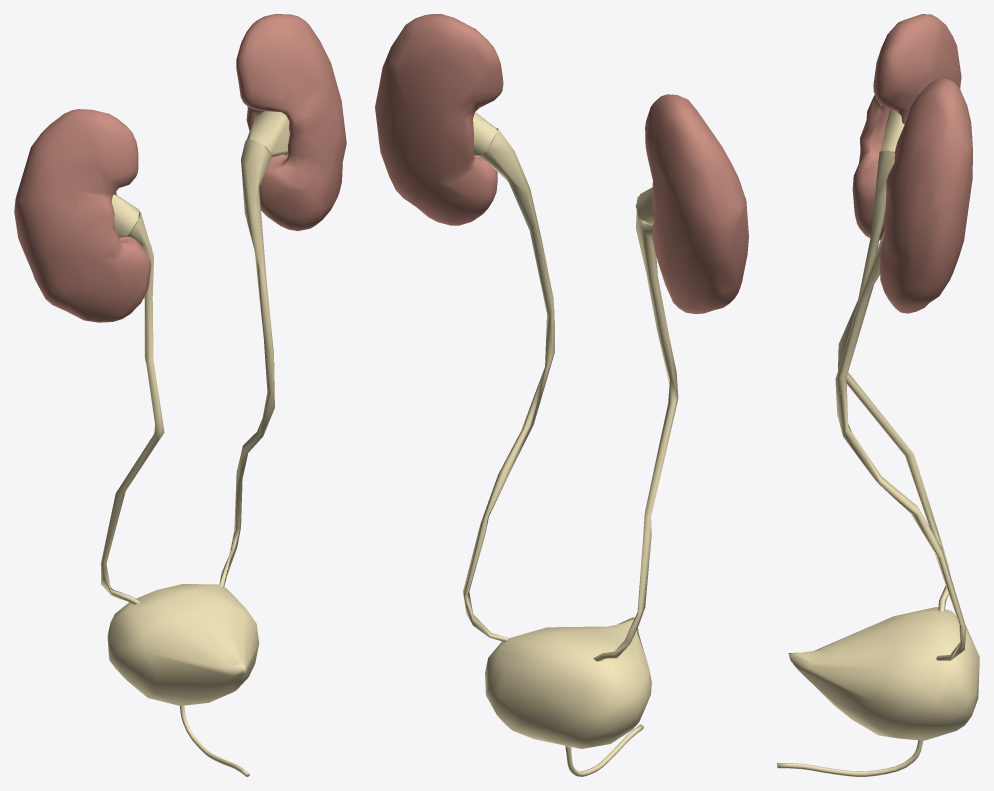
File: astronaut_urinary.glb
3 views of the same model, side by side, from view 1: azimuth 30°, elevation 25°; view 2: azimuth 150°, elevation 25°; view 3: azimuth 270°, elevation 25° (orthographic). The views are drawn at different scales.
Visible parts, largest first — view 1: ORG_Kidney_R, ORG_Kidney_L, ORG_Bladder, SYS_Ureter_L, SYS_Ureter_R; view 2: ORG_Kidney_L, ORG_Kidney_R, ORG_Bladder, SYS_Ureter_L, SYS_Ureter_R, SYS_Urethra; view 3: ORG_Bladder, ORG_Kidney_L, ORG_Kidney_R, SYS_Ureter_R, SYS_Ureter_L, SYS_Urethra.
Part boxes in pixels (left/top/right/bottom): ORG_Kidney_R: left=14, top=109, right=151, bottom=322; ORG_Kidney_L: left=236, top=14, right=346, bottom=231; ORG_Bladder: left=107, top=584, right=259, bottom=705; SYS_Ureter_L: left=219, top=111, right=289, bottom=587; SYS_Ureter_R: left=100, top=194, right=164, bottom=604; ORG_Kidney_L: left=375, top=14, right=503, bottom=225; ORG_Kidney_R: left=645, top=94, right=748, bottom=314; ORG_Bladder: left=485, top=617, right=651, bottom=748; SYS_Ureter_L: left=463, top=112, right=554, bottom=641; SYS_Ureter_R: left=593, top=187, right=678, bottom=661; SYS_Urethra: left=565, top=724, right=643, bottom=776; ORG_Bladder: left=788, top=607, right=979, bottom=740; ORG_Kidney_L: left=879, top=78, right=972, bottom=313; ORG_Kidney_R: left=852, top=14, right=961, bottom=240; SYS_Ureter_R: left=838, top=109, right=950, bottom=611; SYS_Ureter_L: left=835, top=231, right=966, bottom=660; SYS_Urethra: left=777, top=740, right=923, bottom=776.
Size of the model in its own units: 0.1822 by 0.367 by 0.0902.
